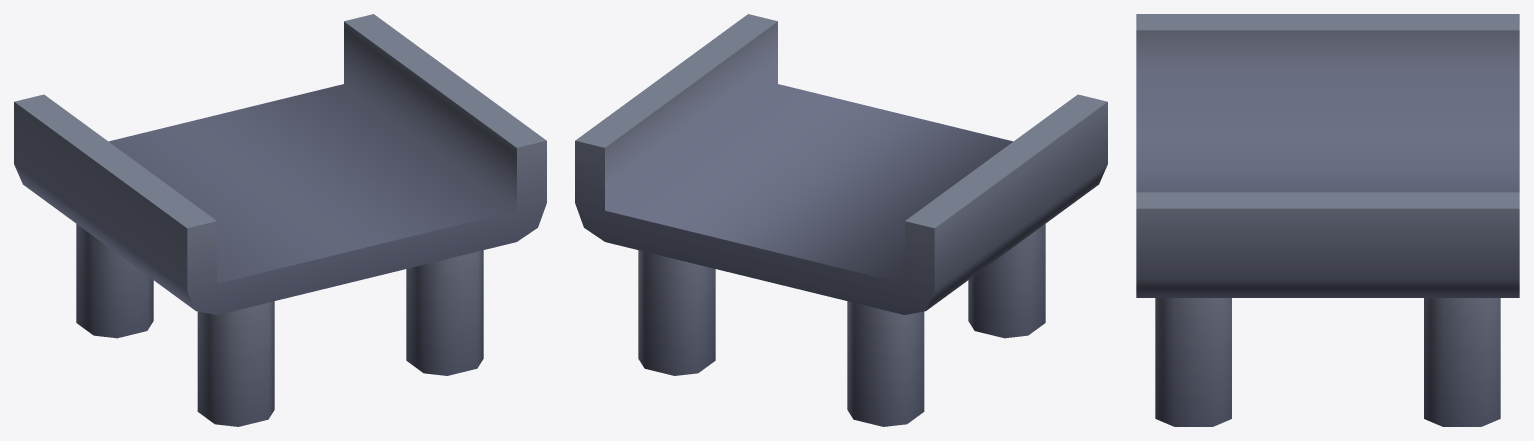
The model's file is kenney-marble-support-four-top.glb.
3 renders of one model, left to right at view 1: azimuth 30°, elevation 25°; view 2: azimuth 150°, elevation 25°; view 3: azimuth 270°, elevation 25°, orthographic. The views are drawn at different scales.
Parts seen in each view (by area): view 1: support-four-top; view 2: support-four-top; view 3: support-four-top.
Part boxes in pixels (bbox=[...]): support-four-top: bbox=[14, 14, 546, 426]; support-four-top: bbox=[575, 14, 1107, 426]; support-four-top: bbox=[1136, 14, 1519, 426].
Size of the model in its own units: 1.2 by 0.7 by 1.
1 material, 1 textured.
